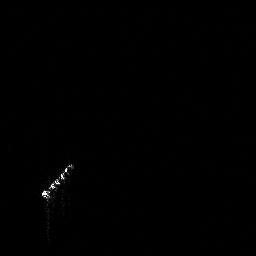ship: (37, 159, 78, 203)
